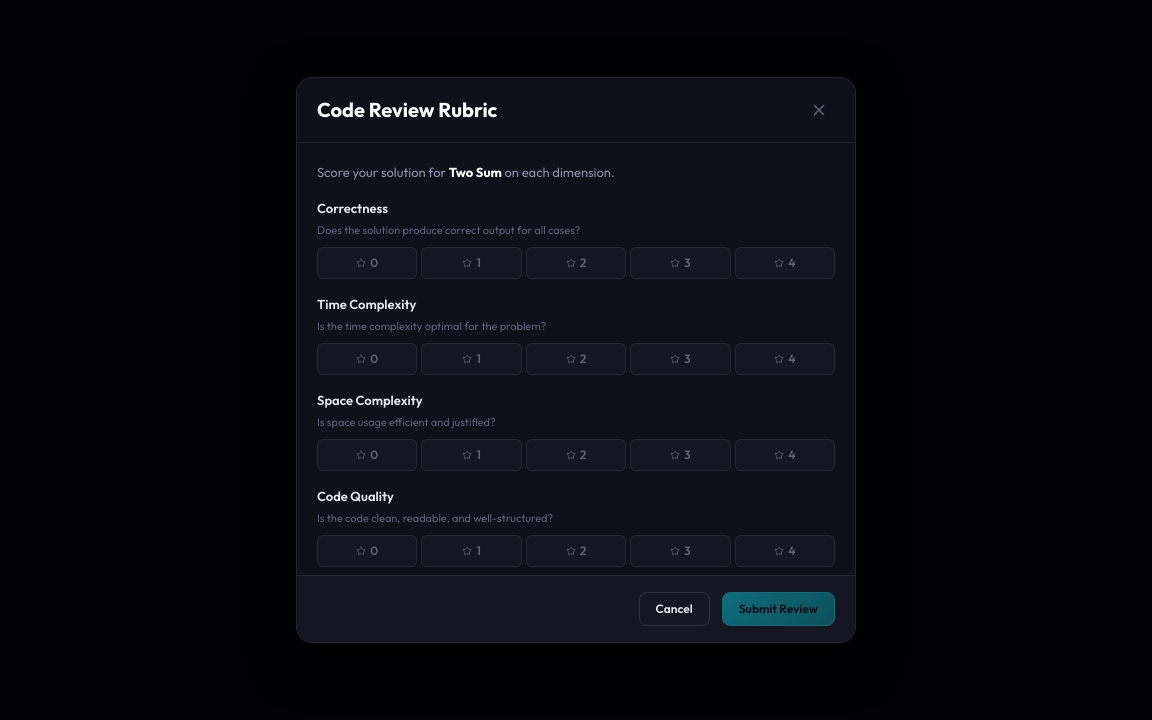
it: ReviewRubric › score selection › allows changing a previously selected score
Click the button "2" below "Correctness": click(576, 262) x1=526 y1=246 x2=626 y2=278
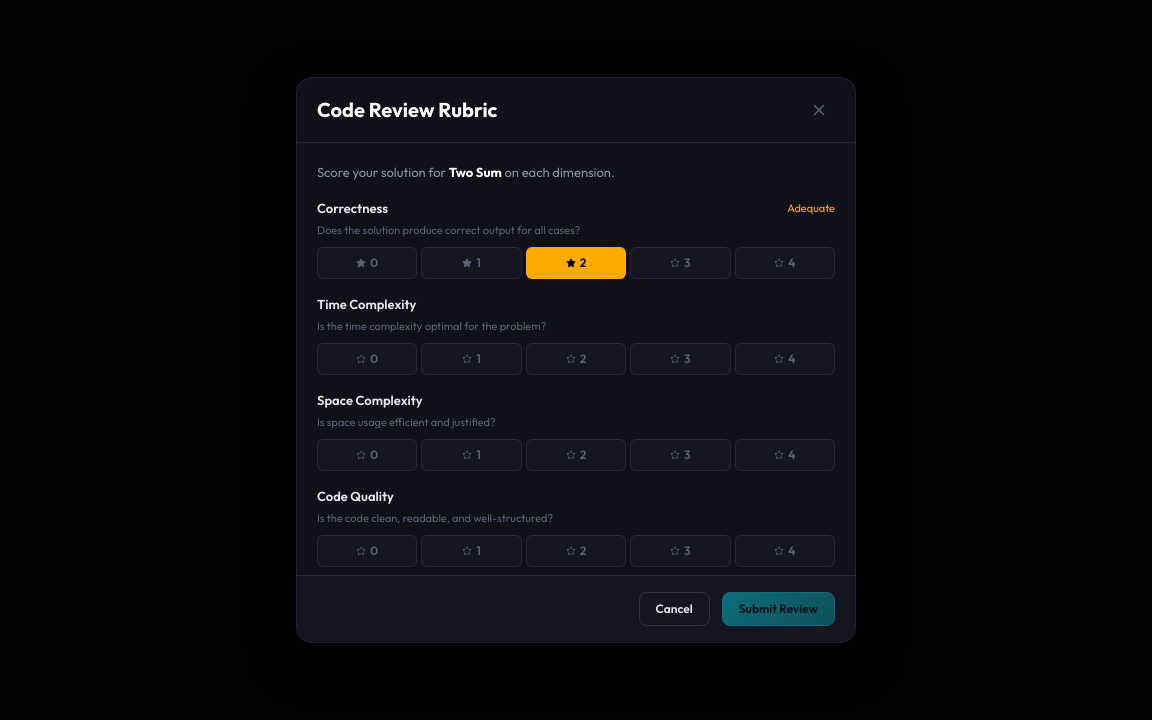
Expected: the text "Adequate" is shown, x1=787 y1=200 x2=835 y2=216
Click the button "4" below "Adequate": click(785, 262) x1=735 y1=246 x2=835 y2=278
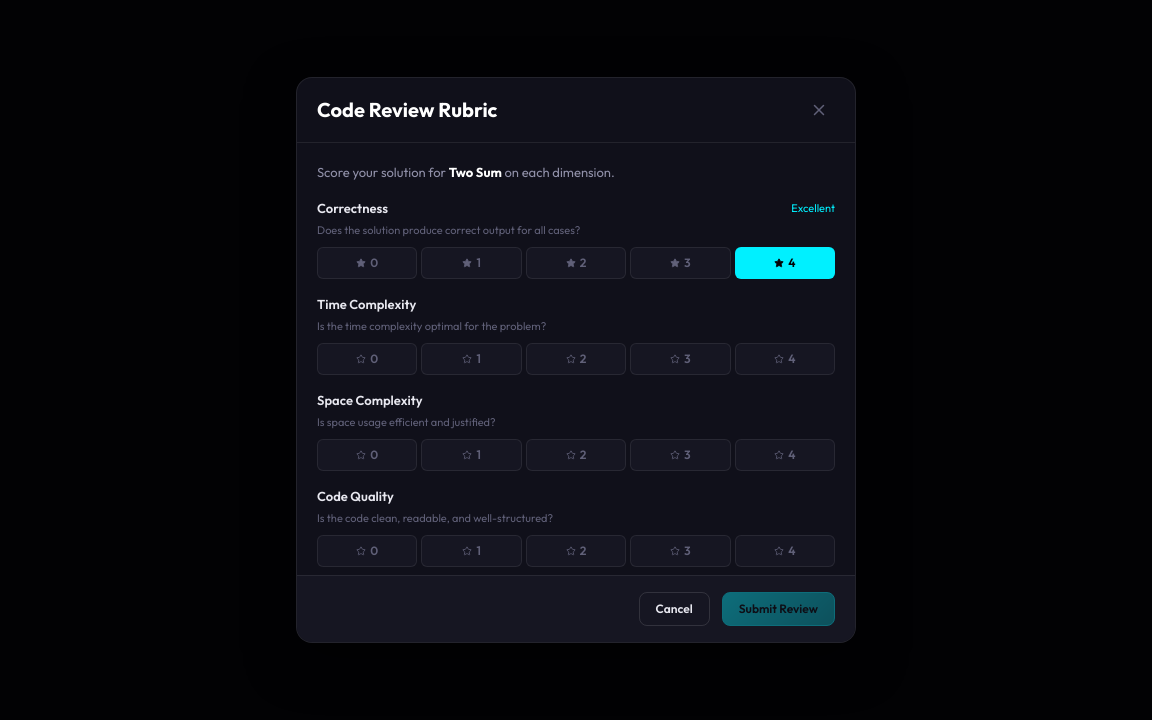
Expected: the text "Excellent" is shown, x1=791 y1=200 x2=835 y2=216
